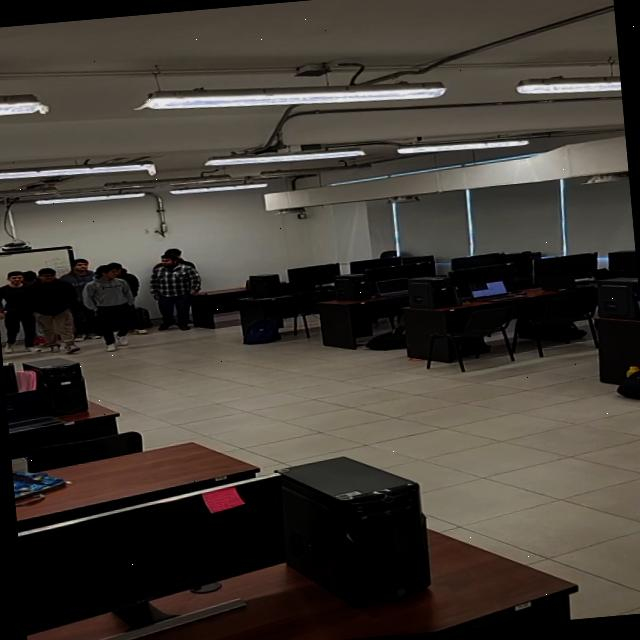Persona: (30, 266, 79, 348), (82, 263, 136, 337), (151, 250, 200, 328), (1, 270, 34, 340), (60, 254, 90, 286)
